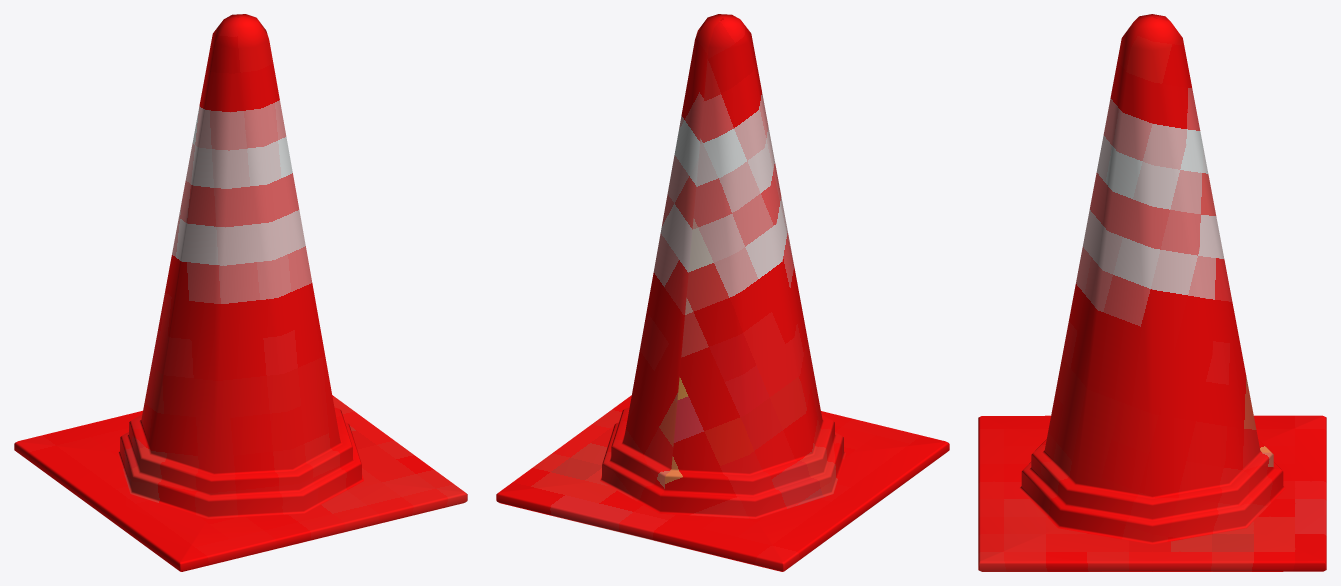
Rendered from objects_un_base_safetycone01.gltf.
3 renders of one model, left to right at view 1: azimuth 30°, elevation 25°; view 2: azimuth 150°, elevation 25°; view 3: azimuth 270°, elevation 25°, orthographic. The views are drawn at different scales.
Parts seen in each view (by area): view 1: obstacle_safetycone01_mesh_shape:objects_un_base_safetycone0; view 2: obstacle_safetycone01_mesh_shape:objects_un_base_safetycone0; view 3: obstacle_safetycone01_mesh_shape:objects_un_base_safetycone0.
Boxes of the visible parts, x1,y1,x2,y2 form: obstacle_safetycone01_mesh_shape:objects_un_base_safetycone0: (14, 14, 467, 571); obstacle_safetycone01_mesh_shape:objects_un_base_safetycone0: (496, 14, 949, 571); obstacle_safetycone01_mesh_shape:objects_un_base_safetycone0: (978, 14, 1326, 571).
Size of what is drawn, in the model's own units: 0.5249 by 0.8008 by 0.5249.
Materials: 1 (1 with a texture image).
